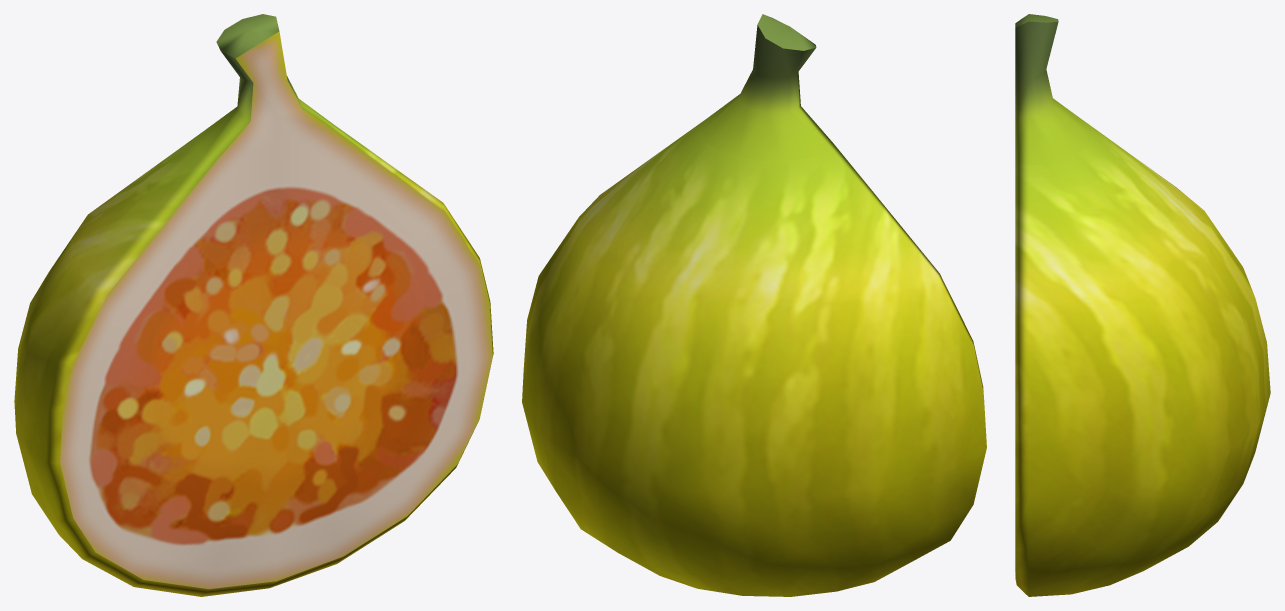
Rendered from Fig_Yellow_Half.fbx.
3 views of the same model, side by side, from view 1: azimuth 30°, elevation 25°; view 2: azimuth 150°, elevation 25°; view 3: azimuth 270°, elevation 25° (orthographic). The views are drawn at different scales.
Parts seen in each view (by area): view 1: Fig_Yellow_Half; view 2: Fig_Yellow_Half; view 3: Fig_Yellow_Half.
Part boxes in pixels (x1,y1,x2,y2): Fig_Yellow_Half: [14, 14, 493, 596]; Fig_Yellow_Half: [522, 14, 986, 596]; Fig_Yellow_Half: [1015, 14, 1270, 596].
Bounding box in the file's own units: 25.79 × 31.28 × 13.21.
